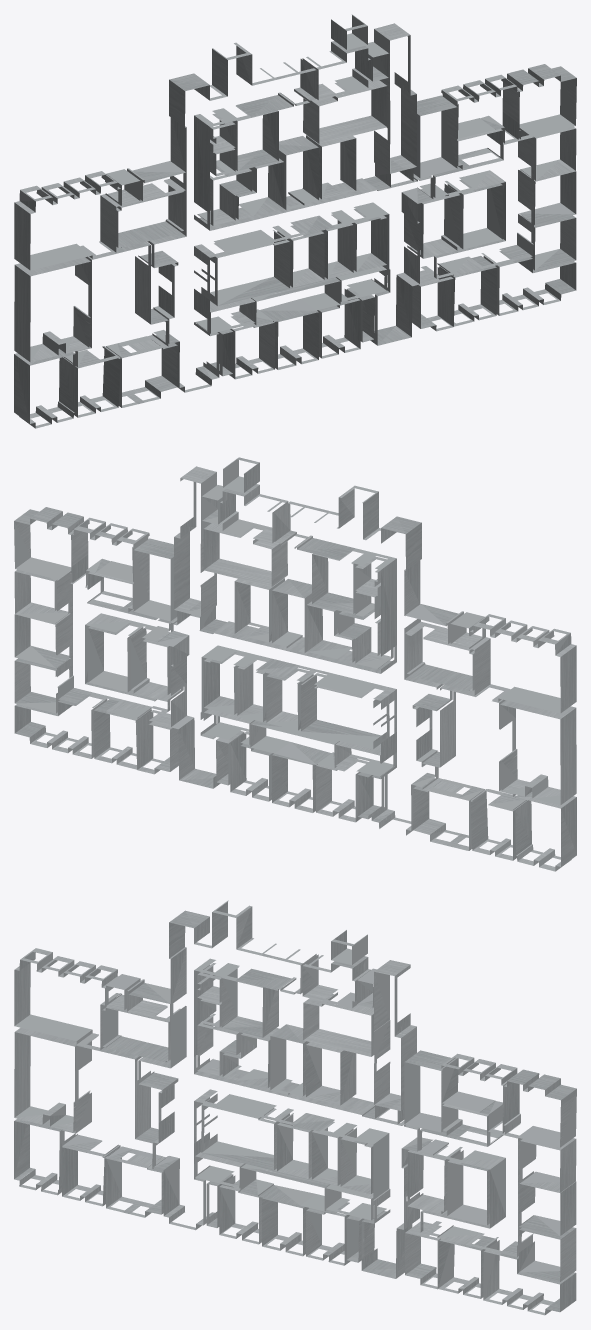
The picture shows the model from 3 angles, top to bottom: view 1: azimuth 30°, elevation 25°; view 2: azimuth 150°, elevation 25°; view 3: azimuth 330°, elevation 25°; orthographic projection.
Visible parts, largest first — view 1: combined_model; view 2: combined_model; view 3: combined_model.
Part boxes in pixels (box(x1,y1,x2,y2)): combined_model: box(14, 14, 576, 428); combined_model: box(14, 457, 576, 871); combined_model: box(14, 900, 576, 1315).
Bounding box in the file's own units: 47.28 × 26.61 × 2.4.
1 material, 1 textured.
